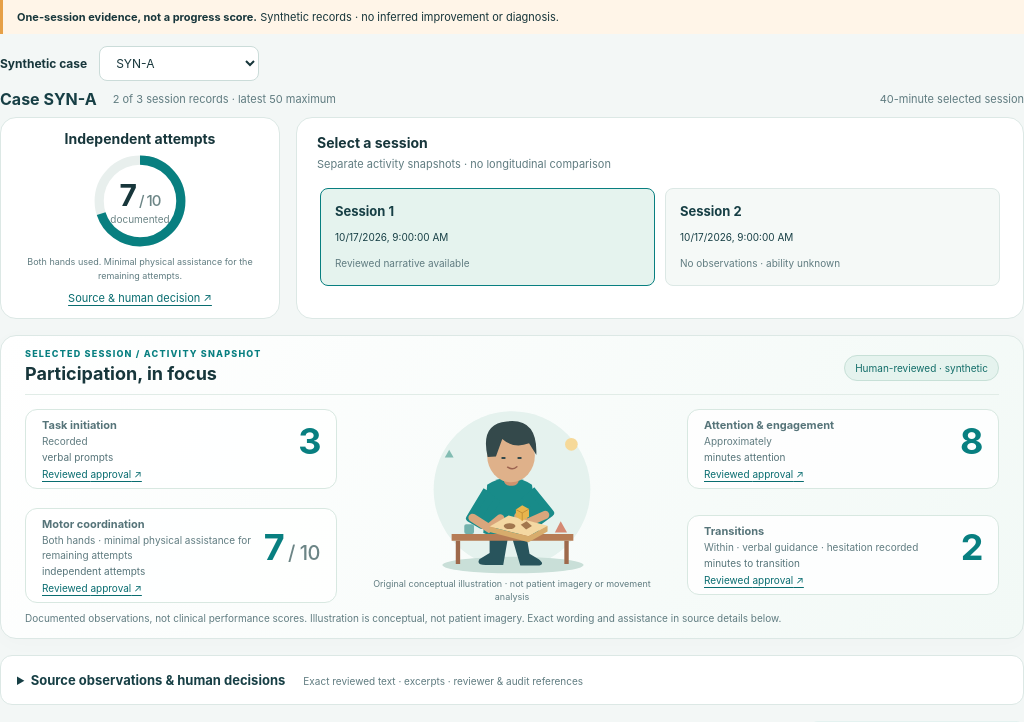
Test: projects all four exact original OT-001 narratives with assistance, source links and no count chart
The image size is (1024, 722).
Expected: the text "3" is shown, [298, 418, 320, 462]
Expected: the text with class "measurement-value" reads "8", [960, 418, 982, 462]
Click the button named "Explore recorded session 2" at x=707, y=211, box [665, 188, 1000, 286]
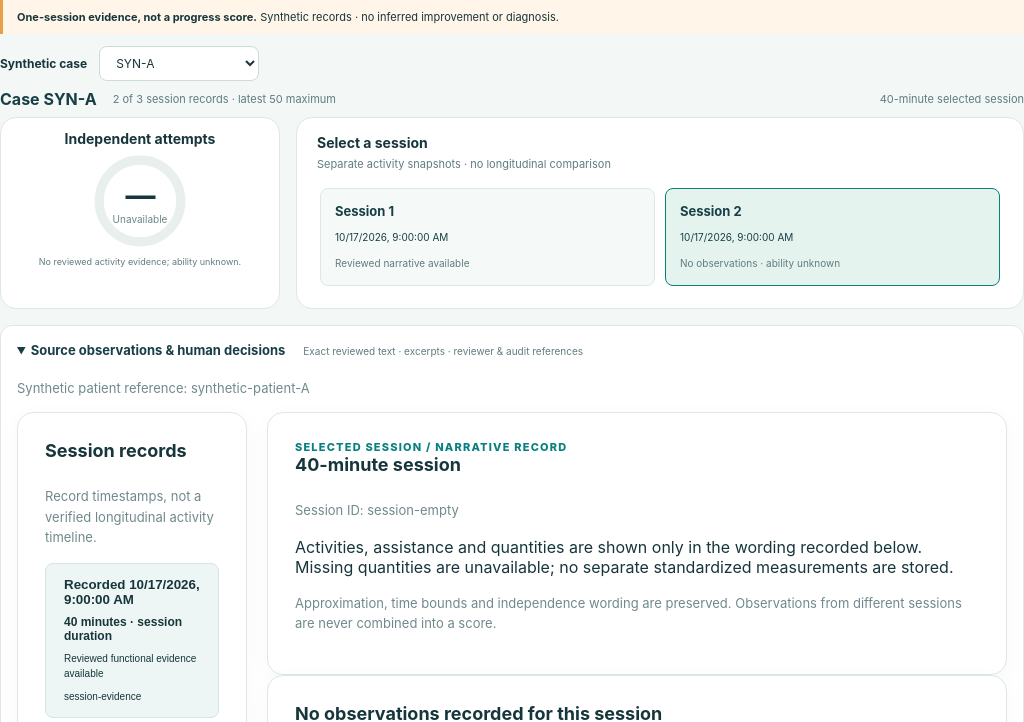
Expected: the element "Documented activity overview" is not shown
Expected: the text with class "measurement-value" is gone
Expected: the element "Documented independent attempts" no longer shows "7"
